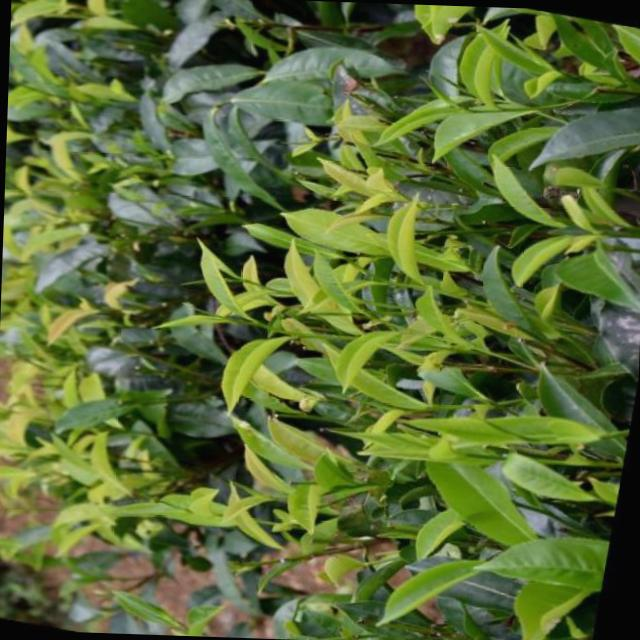Stem: (270, 494, 276, 499), (499, 107, 505, 110), (388, 280, 392, 284), (256, 321, 260, 324)
